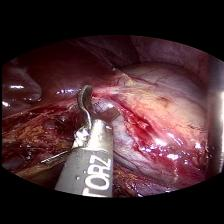Scissors: (60, 82, 126, 156)
